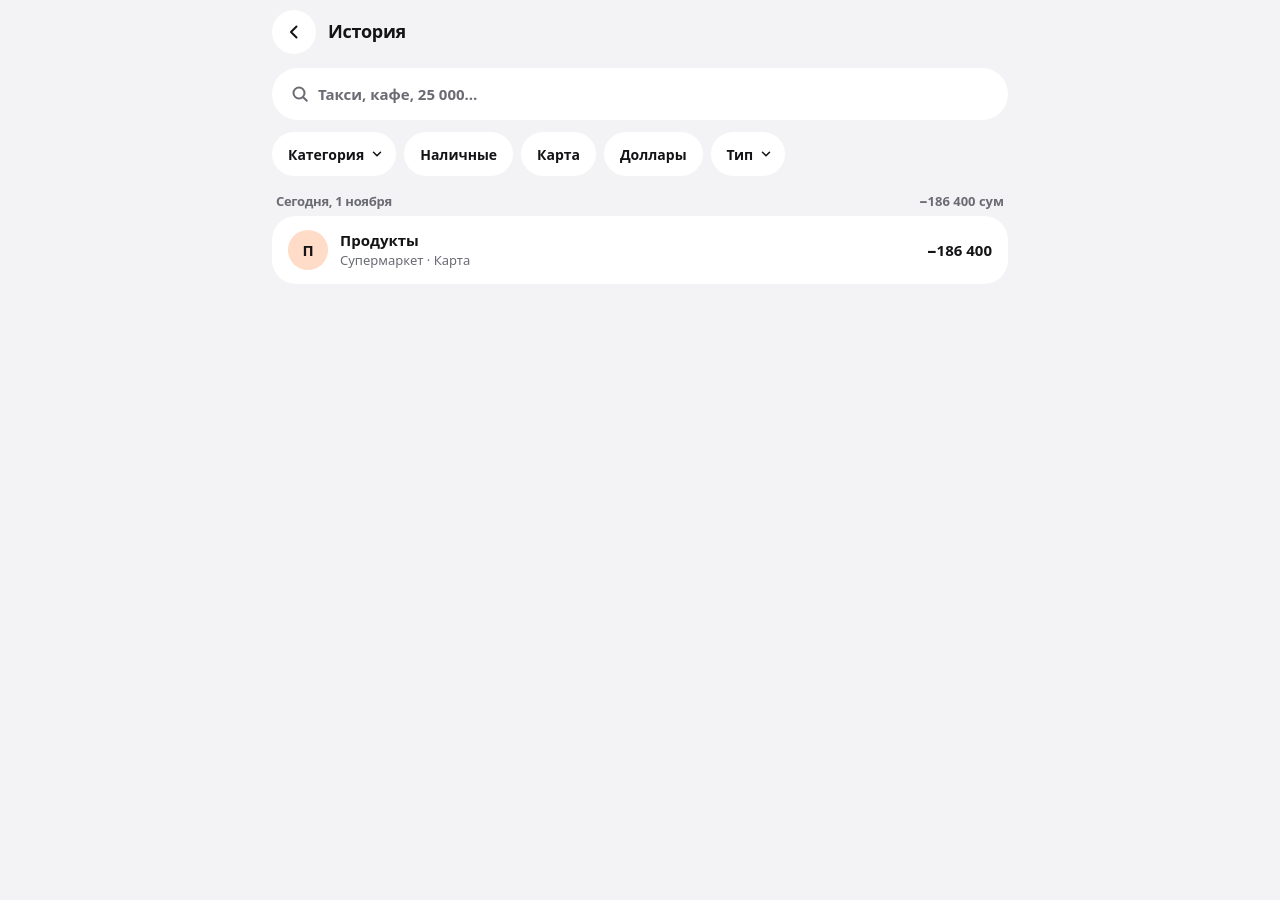
Test case: History › nothing found among the type chosen says so
Click the button "Тип". click: click(748, 154)
box: x1=710 y1=132 x2=785 y2=176
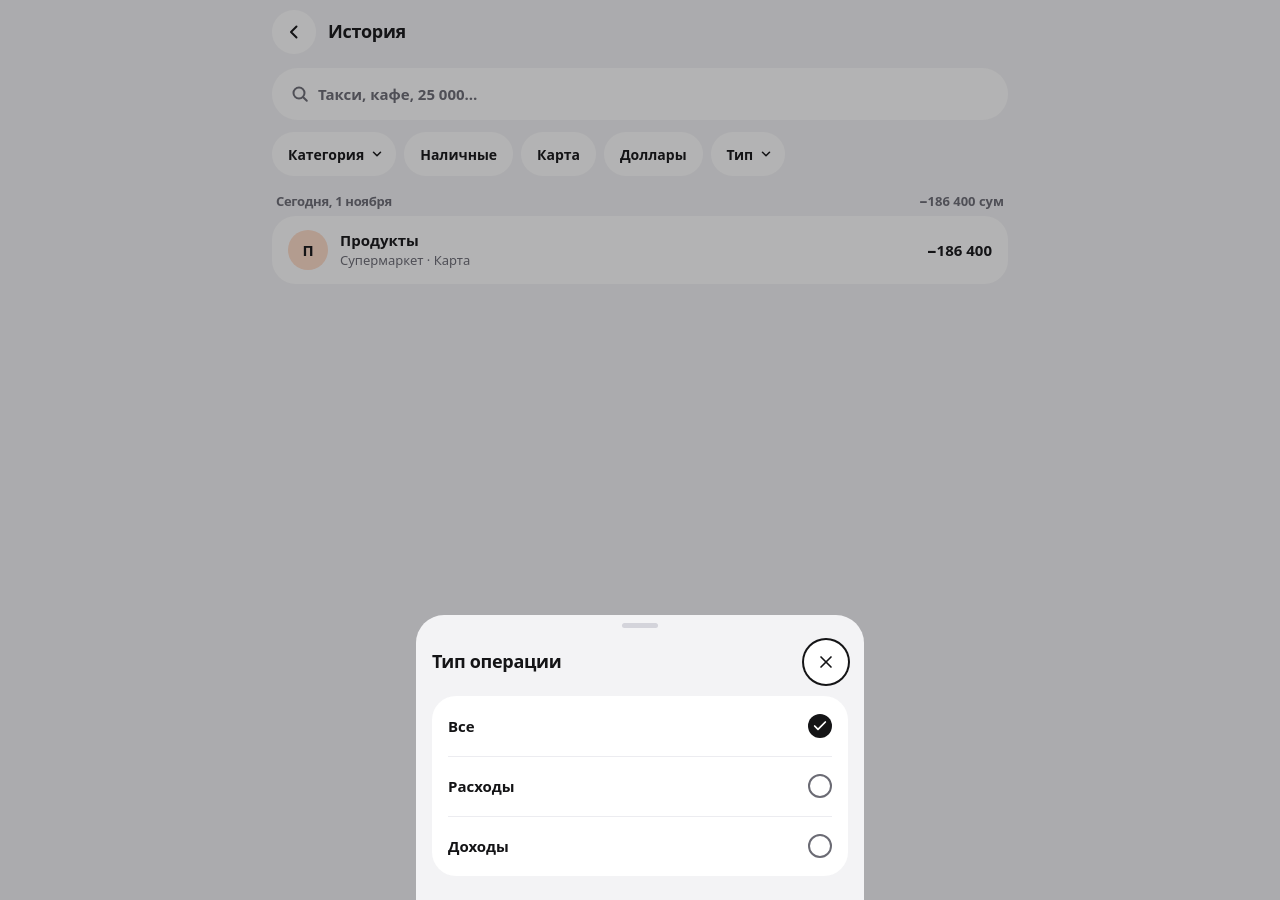
Click the radio button labelled "Доходы". click: click(478, 846)
box: x1=432 y1=816 x2=848 y2=876
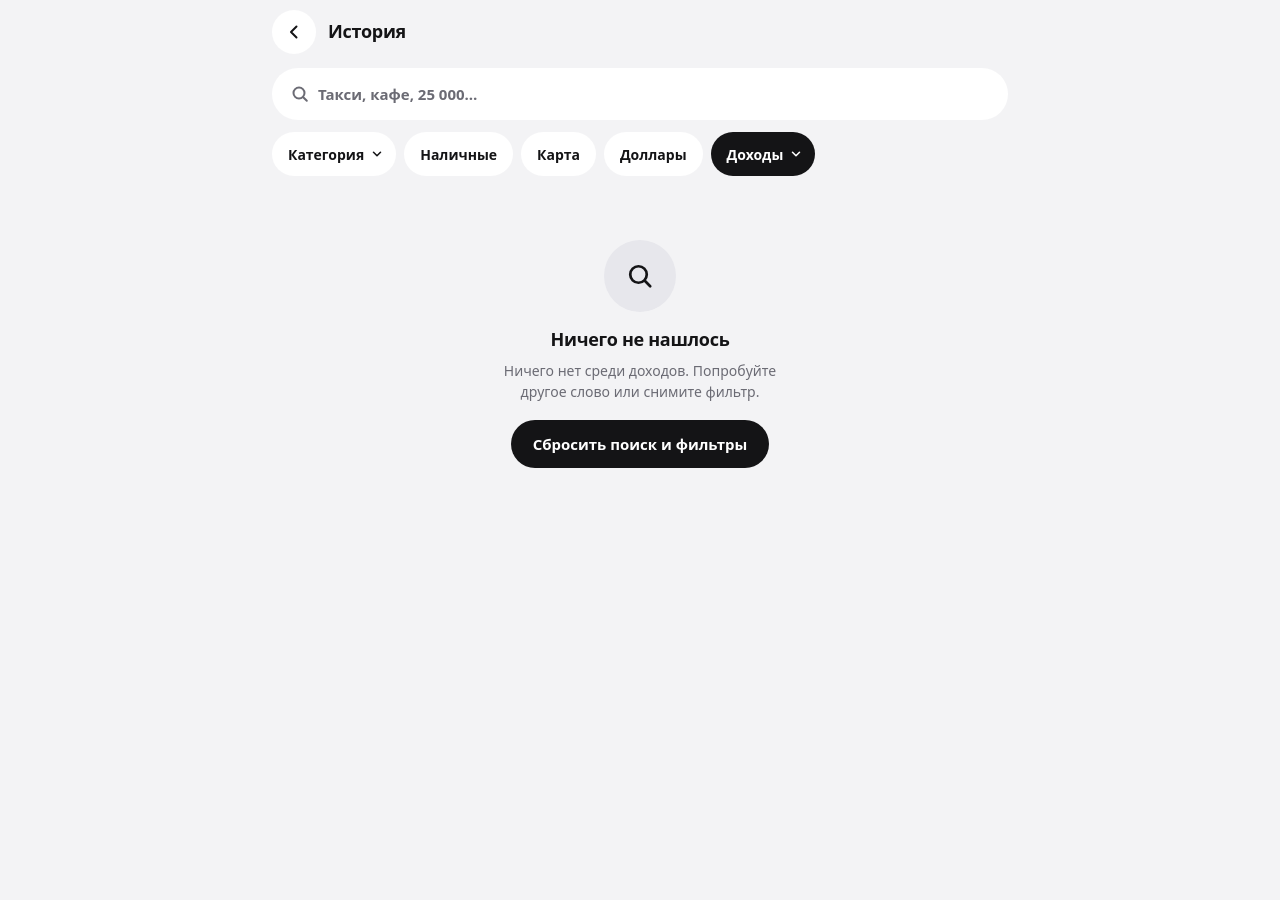
Check: the text "Ничего нет среди доходов. Попробуйте другое слово или снимите фильтр." is shown, box x1=495 y1=361 x2=785 y2=402
